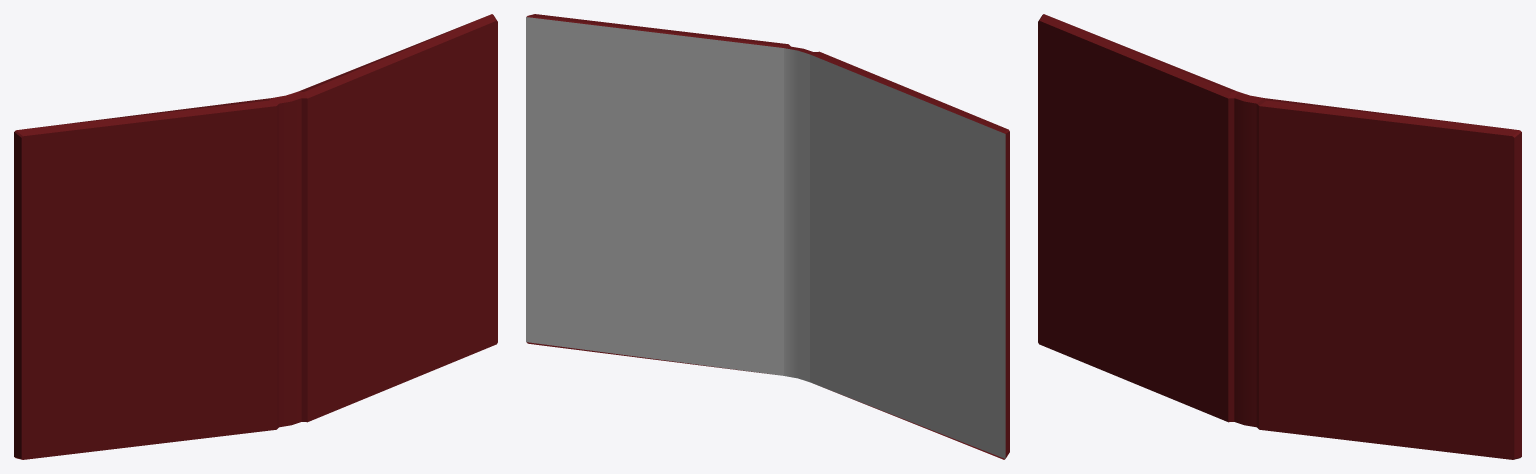
The model's file is OpenBookFix.fbx.
3 renders of one model, left to right at view 1: azimuth 30°, elevation 25°; view 2: azimuth 150°, elevation 25°; view 3: azimuth 330°, elevation 25°, orthographic.
Visible parts, largest first — view 1: OpenBook:RoadKillOut; view 2: OpenBook:RoadKillOut; view 3: OpenBook:RoadKillOut.
Part boxes in pixels (x1=…): OpenBook:RoadKillOut: x1=14, y1=14, x2=497, y2=459; OpenBook:RoadKillOut: x1=526, y1=14, x2=1009, y2=459; OpenBook:RoadKillOut: x1=1038, y1=14, x2=1521, y2=459.
Size of the model in its own units: 79.66 by 52.07 by 11.09.
